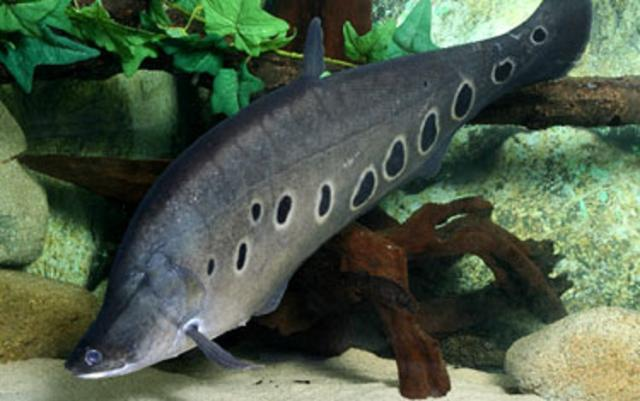Sirip Dada: (172, 317, 270, 384), (50, 342, 136, 388)
Sirip Punggung: (296, 12, 334, 80)
